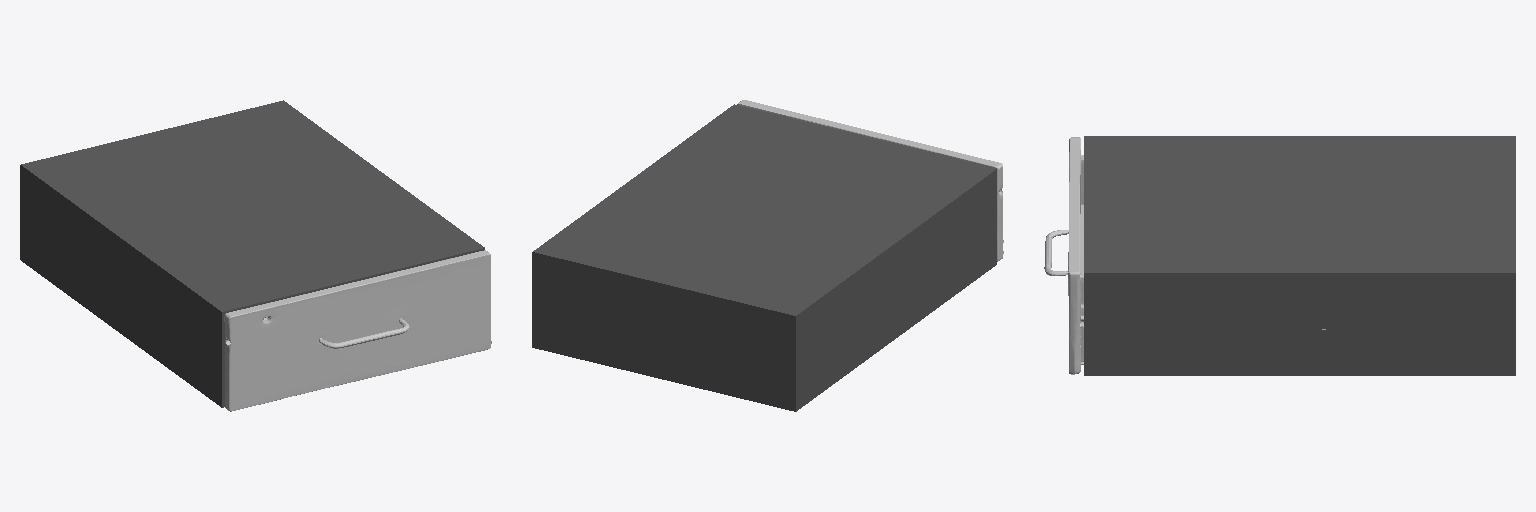
The robot description file, URDF, robot "Scene":
<?xml version='1.0' encoding='ASCII'?>
<robot name="Scene">
  <link name="lower_cabinet_corpus">
    <inertial>
      <origin xyz="0.0 0.0 0.0" rpy="0.0 -0.0 0.0" />
      <mass value="0.015160000000000003" />
      <inertia ixx="1.0" ixy="0.0" ixz="0.0" iyy="1.0" iyz="0.0" izz="1.0" />
    </inertial>
    <visual name="lower_cabinet_back">
      <geometry>
        <box size="0.46 0.02 0.14" />
      </geometry>
      <origin xyz="0.0 0.305 0.07" rpy="0.0 -0.0 0.0" />
      <material name="lower_cabinet_back_main_color">
        <color rgba="0.4 0.4 0.4 1.0" />
      </material>
    </visual>
    <visual name="lower_cabinet_left">
      <geometry>
        <box size="0.02 0.59 0.14" />
      </geometry>
      <origin xyz="-0.22 0.0 0.07" rpy="0.0 -0.0 0.0" />
      <material name="lower_cabinet_left_main_color">
        <color rgba="0.4 0.4 0.4 1.0" />
      </material>
    </visual>
    <visual name="lower_cabinet_right">
      <geometry>
        <box size="0.02 0.59 0.14" />
      </geometry>
      <origin xyz="0.22 0.0 0.07" rpy="0.0 -0.0 0.0" />
      <material name="lower_cabinet_right_main_color">
        <color rgba="0.4 0.4 0.4 1.0" />
      </material>
    </visual>
    <visual name="lower_cabinet_surface_0_0">
      <geometry>
        <box size="0.42000000000000004 0.59 0.02" />
      </geometry>
      <origin xyz="0.0 0.0 0.010000000000000018" rpy="0.0 -0.0 0.0" />
      <material name="lower_cabinet_surface_0_0_main_color">
        <color rgba="0.4 0.4 0.4 1.0" />
      </material>
    </visual>
    <visual name="lower_cabinet_top">
      <geometry>
        <box size="0.46 0.61 0.02" />
      </geometry>
      <origin xyz="0.0 0.01 0.15" rpy="0.0 -0.0 0.0" />
      <material name="lower_cabinet_top_main_color">
        <color rgba="0.4 0.4 0.4 1.0" />
      </material>
    </visual>
    <collision name="lower_cabinet_back">
      <geometry>
        <box size="0.46 0.02 0.14" />
      </geometry>
      <origin xyz="0.0 0.305 0.07" rpy="0.0 -0.0 0.0" />
    </collision>
    <collision name="lower_cabinet_left">
      <geometry>
        <box size="0.02 0.59 0.14" />
      </geometry>
      <origin xyz="-0.22 0.0 0.07" rpy="0.0 -0.0 0.0" />
    </collision>
    <collision name="lower_cabinet_right">
      <geometry>
        <box size="0.02 0.59 0.14" />
      </geometry>
      <origin xyz="0.22 0.0 0.07" rpy="0.0 -0.0 0.0" />
    </collision>
    <collision name="lower_cabinet_surface_0_0">
      <geometry>
        <box size="0.42000000000000004 0.59 0.02" />
      </geometry>
      <origin xyz="0.0 0.0 0.010000000000000018" rpy="0.0 -0.0 0.0" />
    </collision>
    <collision name="lower_cabinet_top">
      <geometry>
        <box size="0.46 0.61 0.02" />
      </geometry>
      <origin xyz="0.0 0.01 0.15" rpy="0.0 -0.0 0.0" />
    </collision>
  </link>
  <link name="lower_cabinet_drawer_0_0">
    <inertial>
      <origin xyz="0.0 0.0 0.0" rpy="0.0 -0.0 0.0" />
      <mass value="0.10000000000000003" />
      <inertia ixx="1.0" ixy="0.0" ixz="0.0" iyy="1.0" iyz="0.0" izz="1.0" />
    </inertial>
    <visual><geometry><mesh filename="drawers/warped_drawer.obj" /></geometry><material name="drawer_material"><color rgba="0.8 0.8 0.8 1.0" /></material></visual><collision><geometry><box size="0.456 0.544 0.156" /></geometry></collision></link>
  <link name="world" />
  <link name="lower_cabinet" />
  <joint name="lower_cabinet_world_fixed_joint" type="fixed">
    <parent link="world" />
    <child link="lower_cabinet" />
    <origin xyz="0.0 0.0 0.0" rpy="0.0 -0.0 0.0" />
  </joint>
  <joint name="lower_cabinet_corpus_to_drawer_0_0" type="prismatic">
    <parent link="lower_cabinet_corpus" />
    <child link="lower_cabinet_drawer_0_0" />
    <origin xyz="0.0 -0.295 0.08000000000000002" rpy="0.0 -0.0 0.0" />
    <axis xyz="0 -1 0" />
    <limit effort="1000.0" velocity="1.0" lower="0.0" upper="0.49410000000000004" />
  </joint>
  <joint name="lower_cabinet_origin_joint" type="fixed">
    <parent link="lower_cabinet" />
    <child link="lower_cabinet_corpus" />
    <origin xyz="0.0 0.0 0.0" rpy="0.0 -0.0 0.0" />
  </joint>
</robot>

--- Facts derived from the render (not from the file) ---
Views: 3 orthographic renders of the robot side by side, from view 1: azimuth 30°, elevation 25°; view 2: azimuth 150°, elevation 25°; view 3: azimuth 270°, elevation 25°.
Robot: Scene — 4 links, 3 joints (1 prismatic, 2 fixed); root link world; default pose: every joint at zero.
Links seen in each view (by area): view 1: lower_cabinet_corpus, lower_cabinet_drawer_0_0; view 2: lower_cabinet_corpus, lower_cabinet_drawer_0_0; view 3: lower_cabinet_corpus, lower_cabinet_drawer_0_0.
Boxes of the visible links, x1,y1,x2,y2 form: lower_cabinet_corpus: (20,100,484,407); lower_cabinet_drawer_0_0: (224,250,491,411); lower_cabinet_corpus: (532,104,996,411); lower_cabinet_drawer_0_0: (737,100,1003,261); lower_cabinet_corpus: (1084,136,1515,375); lower_cabinet_drawer_0_0: (1044,137,1325,374).
Size in the robot's own frame: 0.4617 by 0.6666 by 0.1616 metres.
1 mesh visuals loaded from 1 distinct referenced files (1 OBJ).